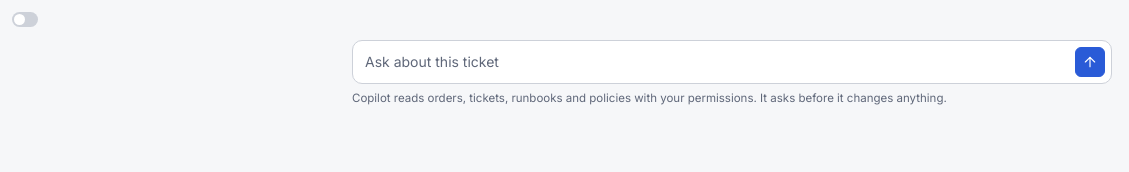
Test: sending that goes wrong › keeps the message and says what went wrong when it could not be sent
The image size is (1129, 172).
Type "Why is order 4471 late?" into the text box named "Message" at (716, 62), box [365,47,1067,77]
Then press Enter
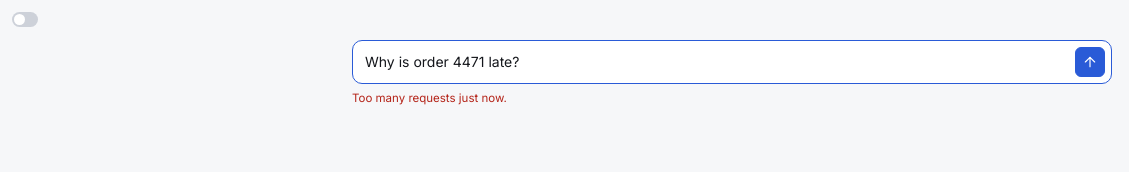
Expected: the message reads "Too many requests just now.", [352,91,507,105]
